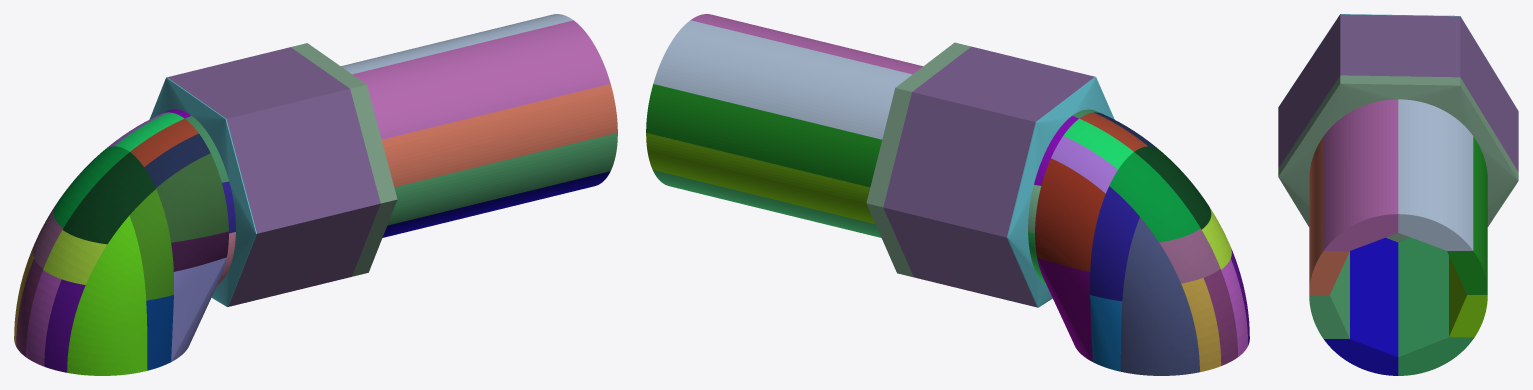
The model's file is 0_canonical.obj.
3 renders of one model, left to right at view 1: azimuth 30°, elevation 25°; view 2: azimuth 150°, elevation 25°; view 3: azimuth 270°, elevation 25°, orthographic.
Visible parts, largest first — view 1: geometry_1, geometry_7, geometry_9, geometry_17, geometry_3, geometry_2, geometry_19, geometry_0, geometry_25, geometry_30, geometry_12, geometry_5 (+13 smaller); view 2: geometry_1, geometry_6, geometry_8, geometry_16, geometry_4, geometry_15, geometry_2, geometry_0, geometry_33, geometry_20, geometry_11, geometry_10 (+12 smaller); view 3: geometry_1, geometry_6, geometry_7, geometry_0, geometry_10, geometry_5, geometry_8, geometry_9, geometry_3, geometry_4, geometry_2.
Boxes of the visible parts, x1=… form: geometry_1: x1=167, y1=47, x2=380, y2=306; geometry_7: x1=352, y1=20, x2=610, y2=139; geometry_9: x1=382, y1=84, x2=617, y2=187; geometry_17: x1=67, y1=215, x2=147, y2=375; geometry_3: x1=387, y1=133, x2=617, y2=225; geometry_2: x1=150, y1=77, x2=256, y2=306; geometry_19: x1=156, y1=153, x2=228, y2=242; geometry_0: x1=291, y1=43, x2=397, y2=276; geometry_25: x1=62, y1=152, x2=155, y2=244; geometry_30: x1=129, y1=189, x2=173, y2=300; geometry_12: x1=171, y1=257, x2=226, y2=361; geometry_5: x1=382, y1=171, x2=610, y2=237; geometry_1: x1=883, y1=46, x2=1094, y2=307; geometry_6: x1=653, y1=20, x2=912, y2=139; geometry_8: x1=646, y1=84, x2=881, y2=187; geometry_16: x1=1120, y1=217, x2=1199, y2=375; geometry_4: x1=646, y1=133, x2=875, y2=223; geometry_15: x1=1035, y1=158, x2=1105, y2=271; geometry_2: x1=1007, y1=76, x2=1114, y2=307; geometry_0: x1=866, y1=42, x2=971, y2=277; geometry_33: x1=1109, y1=152, x2=1200, y2=242; geometry_20: x1=1090, y1=186, x2=1139, y2=301; geometry_11: x1=1037, y1=257, x2=1092, y2=361; geometry_10: x1=653, y1=170, x2=881, y2=237; geometry_1: x1=1278, y1=14, x2=1518, y2=171; geometry_6: x1=1398, y1=99, x2=1473, y2=250; geometry_7: x1=1323, y1=99, x2=1398, y2=250; geometry_0: x1=1278, y1=75, x2=1518, y2=242; geometry_10: x1=1398, y1=237, x2=1474, y2=375; geometry_5: x1=1324, y1=237, x2=1398, y2=375; geometry_8: x1=1447, y1=136, x2=1487, y2=294; geometry_9: x1=1309, y1=136, x2=1349, y2=294; geometry_3: x1=1309, y1=251, x2=1349, y2=338; geometry_4: x1=1449, y1=256, x2=1487, y2=337; geometry_2: x1=1278, y1=14, x2=1517, y2=109.
Bounding box in the file's own units: 0.0465 × 0.0177 × 0.0175.
